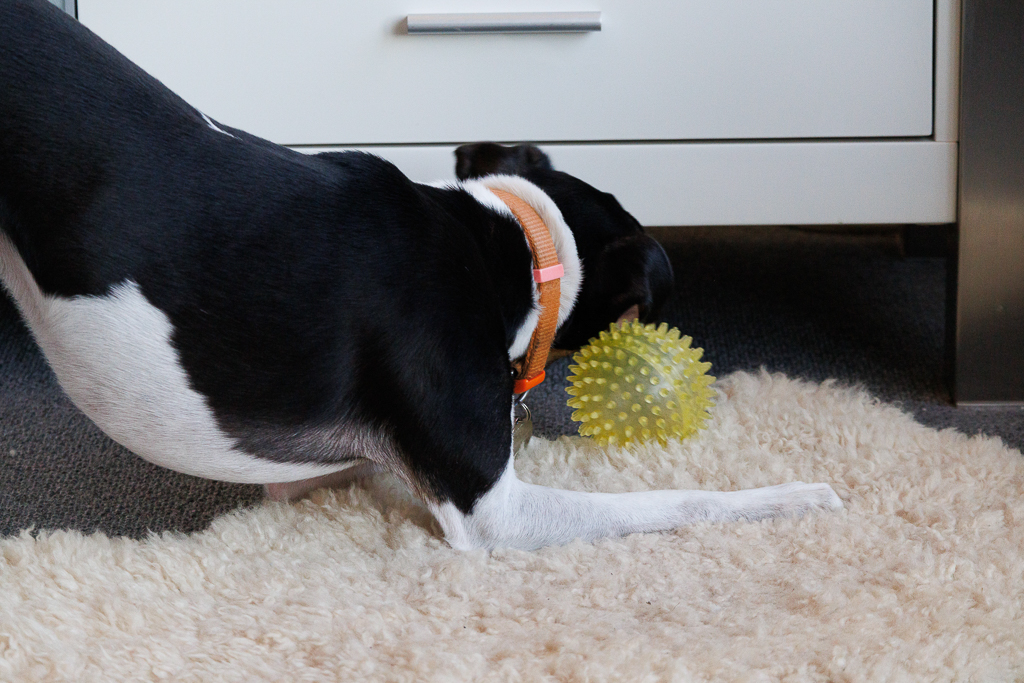Dog: (0, 1, 860, 567)
